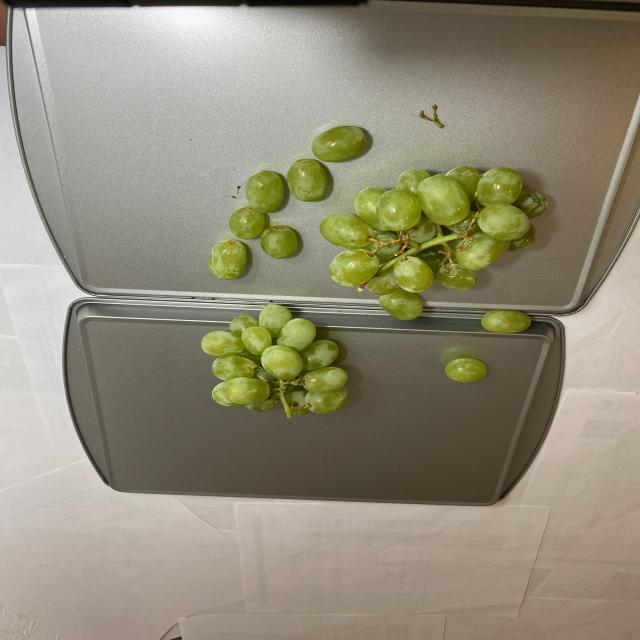grapes: (202, 126, 551, 416)
